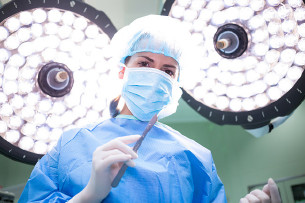face_mask: (121, 50, 178, 119)
